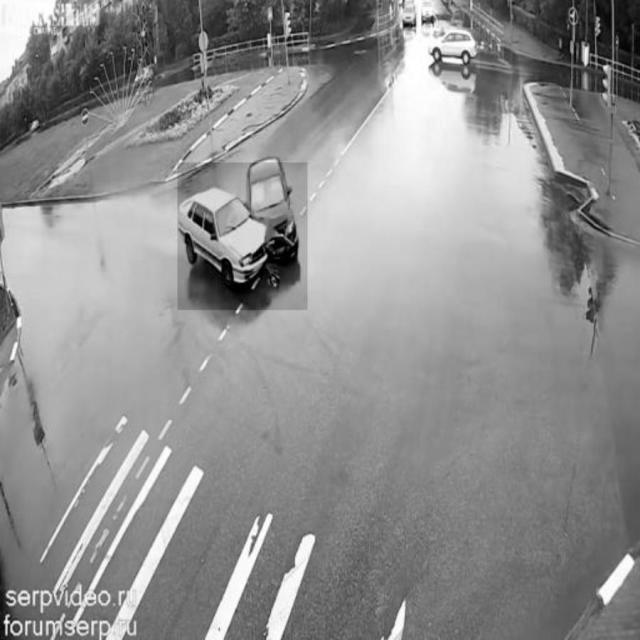accident: (178, 164, 308, 311)
vehicle: (430, 28, 480, 74), (403, 6, 419, 28), (420, 2, 435, 19)
